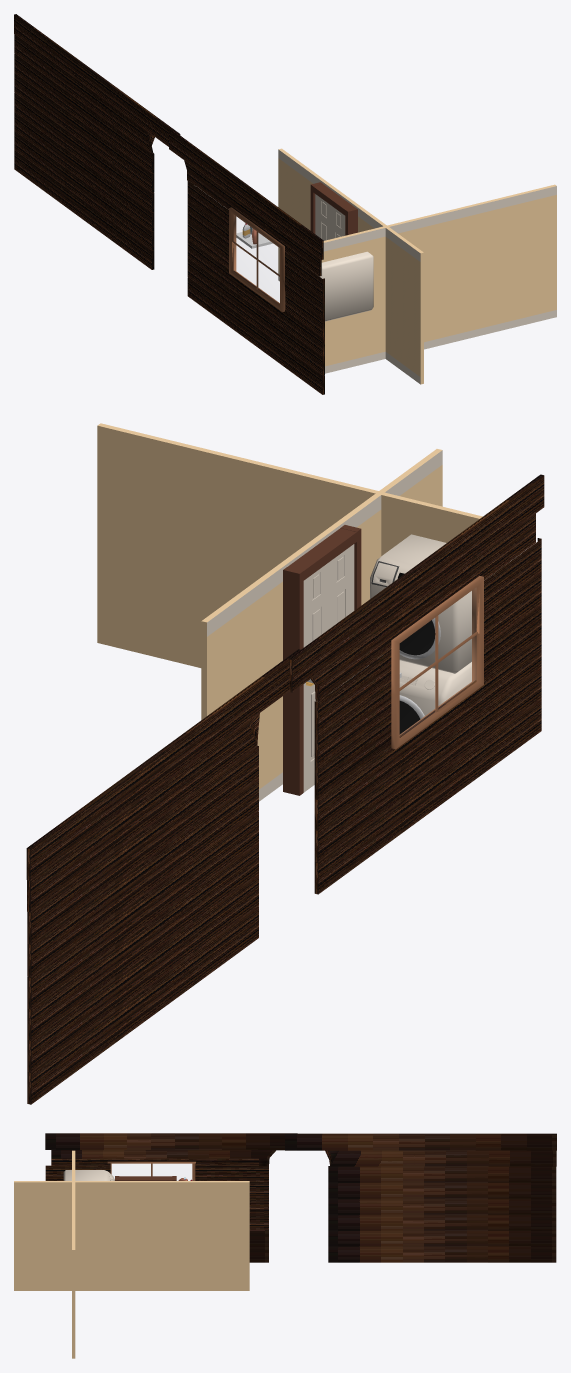
The model's file is extraRoom.glb.
3 renders of one model, top to bottom at view 1: azimuth 30°, elevation 25°; view 2: azimuth 150°, elevation 25°; view 3: azimuth 270°, elevation 25°, orthographic. The views are drawn at different scales.
Parts seen in each view (by area): view 1: Planks, backwallkitchen.002, backwallkitchen.001, washingMachine.001, outsidewindow1, NewFrame.001, NewDoor.004; view 2: Planks, backwallkitchen.002, backwallkitchen.001, NewFrame.001, washingMachine.001, NewDoor.004, outsidewindow1, washingMachine; view 3: Planks, backwallkitchen.001, backwallkitchen.002, washingMachine.001, outsidewindow1, NewFrame.001.
Part boxes in pixels (<box>): Planks: <box>14,14,324,394</box>; backwallkitchen.002: <box>321,184,556,373</box>; backwallkitchen.001: <box>278,148,423,384</box>; washingMachine.001: <box>319,251,373,321</box>; outsidewindow1: <box>229,207,285,311</box>; NewFrame.001: <box>310,182,357,235</box>; NewDoor.004: <box>315,194,345,240</box>; Planks: <box>26,474,544,1104</box>; backwallkitchen.002: <box>97,423,506,667</box>; backwallkitchen.001: <box>201,449,442,801</box>; NewFrame.001: <box>283,525,361,795</box>; washingMachine.001: <box>370,534,494,673</box>; NewDoor.004: <box>303,544,354,792</box>; outsidewindow1: <box>387,576,483,749</box>; washingMachine: <box>399,660,471,734</box>; Planks: <box>45,1133,556,1262</box>; backwallkitchen.001: <box>14,1181,249,1290</box>; backwallkitchen.002: <box>72,1150,75,1358</box>; washingMachine.001: <box>63,1170,114,1180</box>; outsidewindow1: <box>107,1161,195,1180</box>; NewFrame.001: <box>115,1176,176,1180</box>.
Bounding box in the file's own units: 4.34 × 2.53 × 9.73.
Materials: 5 (3 with a texture image).
